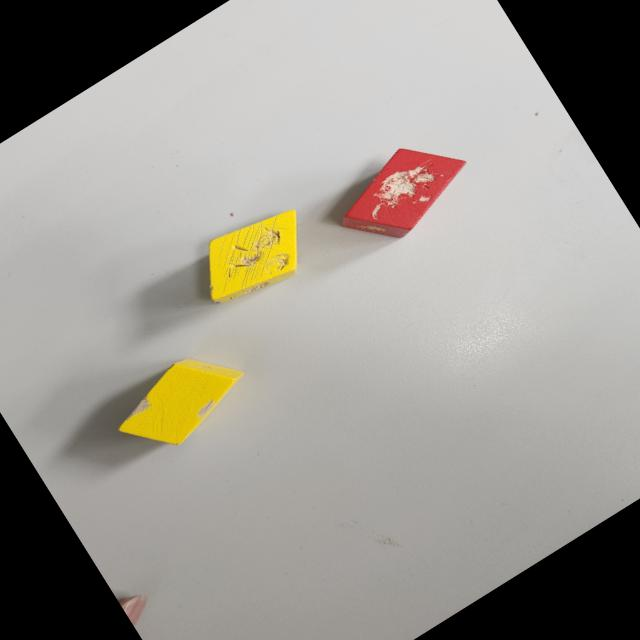broken: (322, 122, 480, 260), (103, 334, 258, 468), (183, 192, 326, 320)
